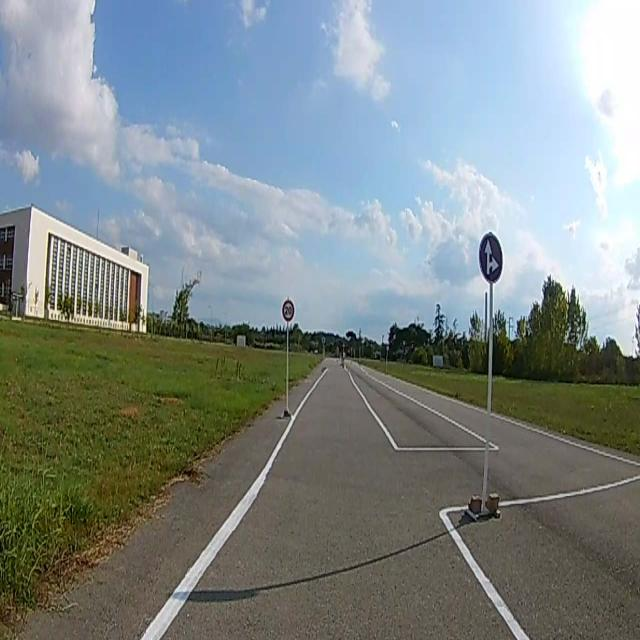20: (283, 301, 293, 321)
ilerisag: (480, 234, 502, 282)
